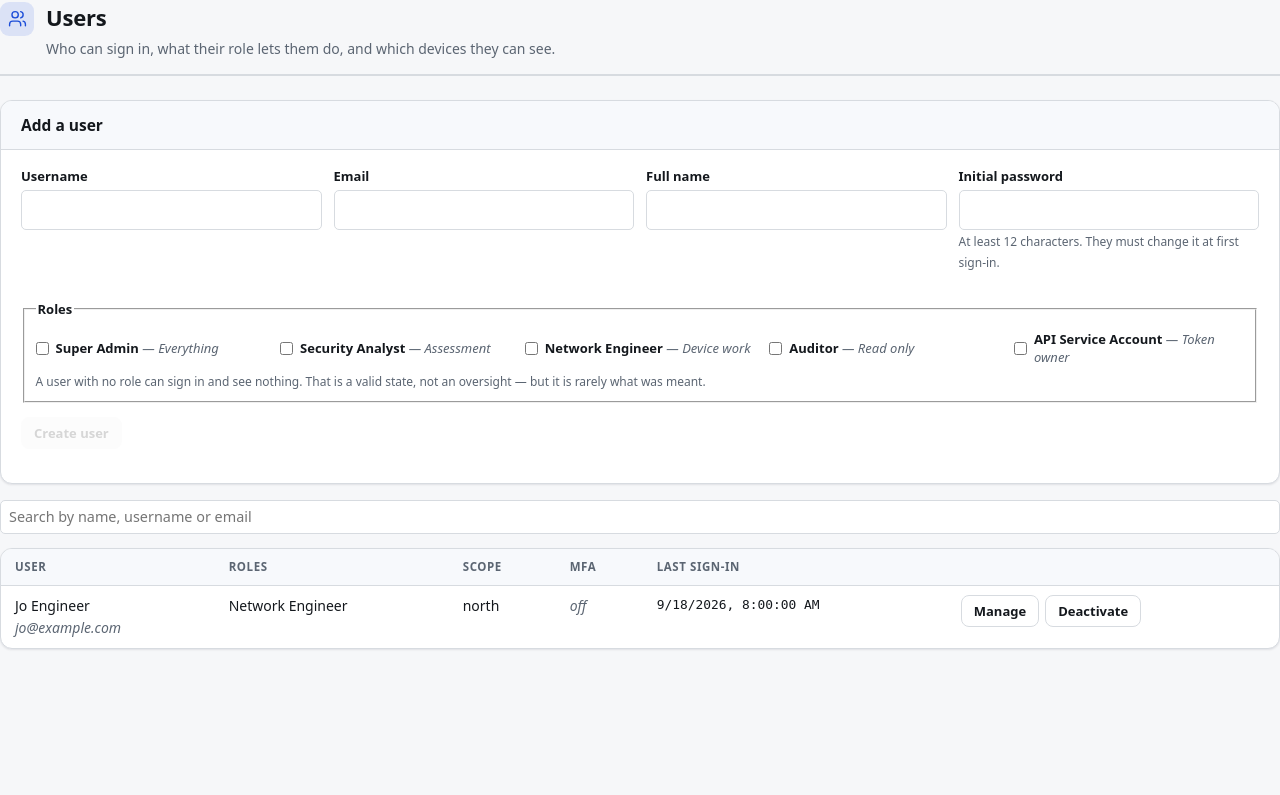
Test case: UsersPage › scope editing › starts from what the server says the scope is
Click the button "Manage" at [1000, 611], box [961, 595, 1039, 627]
(page scrolled)
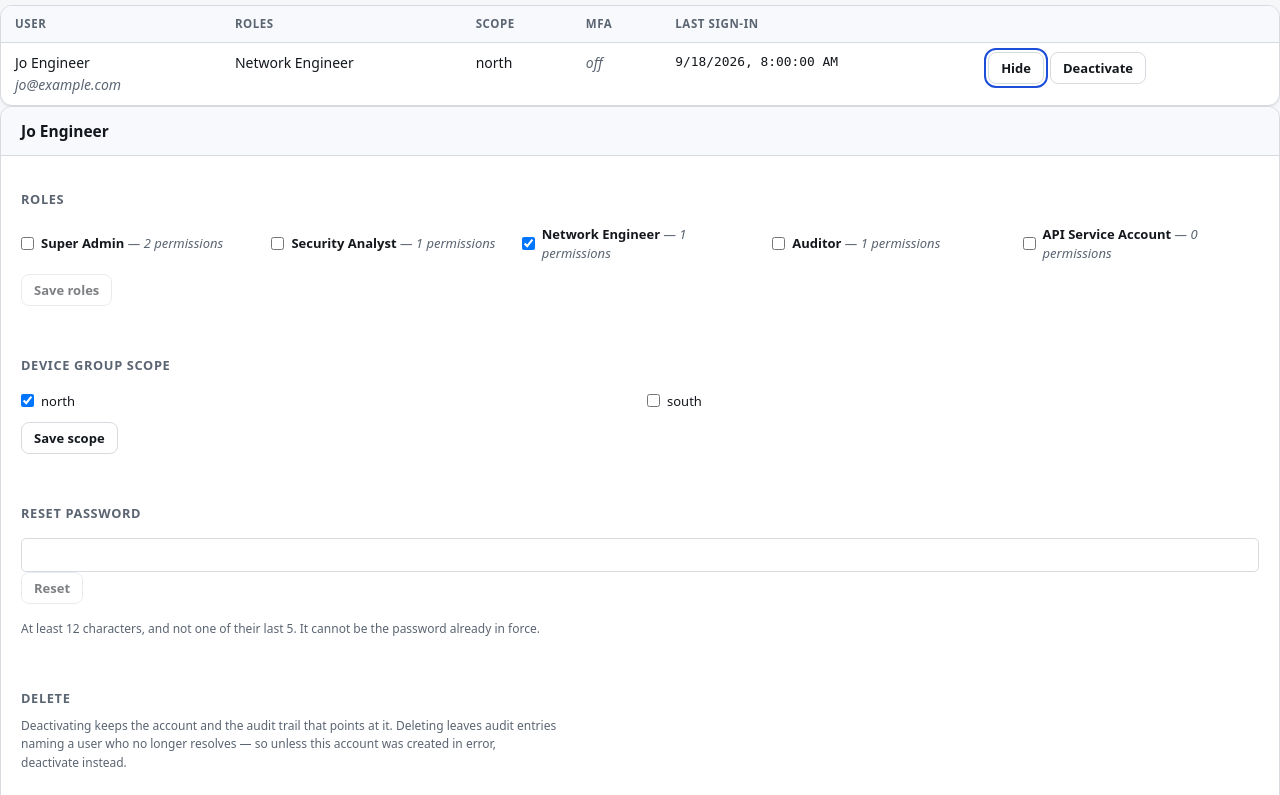
Expected: the checkbox named "north for jo.engineer" is checked, [21, 394, 34, 407]
Expected: the checkbox named "south for jo.engineer" is not checked, [647, 394, 660, 407]
